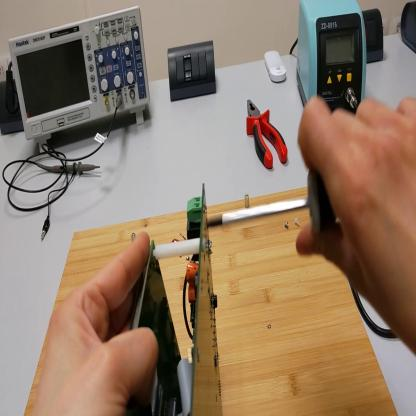hand: (295, 90, 416, 354), (32, 231, 159, 416)
low voltage board: (130, 185, 224, 415)
oscilloscope: (7, 8, 153, 155)
oscilloscope probe tip: (48, 160, 101, 174)
pliers: (247, 99, 290, 167)
screwdriver-: (209, 174, 338, 241)
socket: (1, 77, 25, 135), (363, 8, 388, 63), (400, 2, 416, 53)
welder station: (299, 1, 367, 115)
working area: (23, 188, 399, 415)
